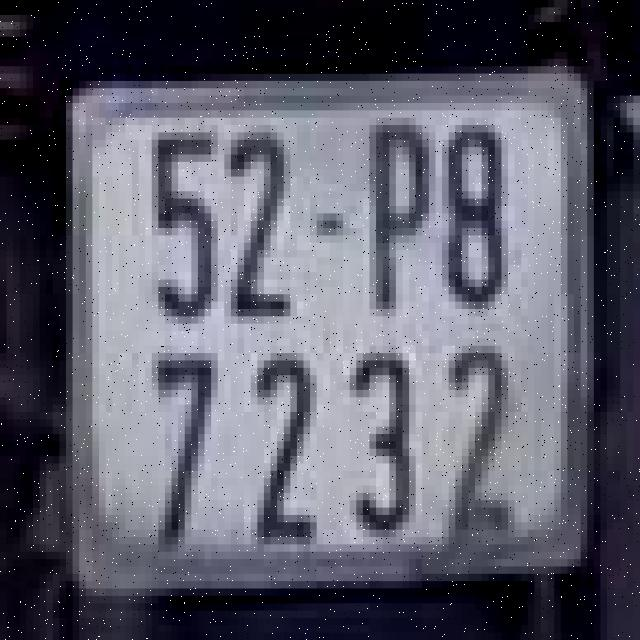2: (221, 110, 307, 338), (438, 331, 524, 537), (238, 346, 316, 544)
3: (343, 338, 422, 552)
5: (126, 125, 224, 331)
7: (132, 338, 224, 544)
8: (439, 99, 518, 313)
P: (359, 107, 438, 320)
